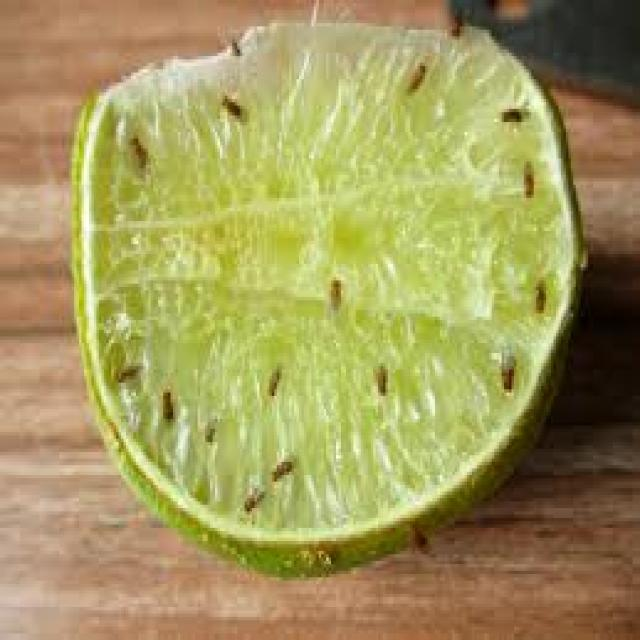fruit fly: (390, 49, 432, 102), (489, 92, 534, 136), (230, 468, 269, 518), (210, 82, 247, 128), (259, 446, 299, 488), (106, 346, 144, 389), (492, 340, 521, 396), (363, 346, 393, 399), (524, 267, 553, 320), (148, 380, 180, 426), (254, 353, 286, 399), (400, 508, 430, 554), (512, 152, 538, 201), (321, 267, 346, 317), (121, 122, 148, 168)
